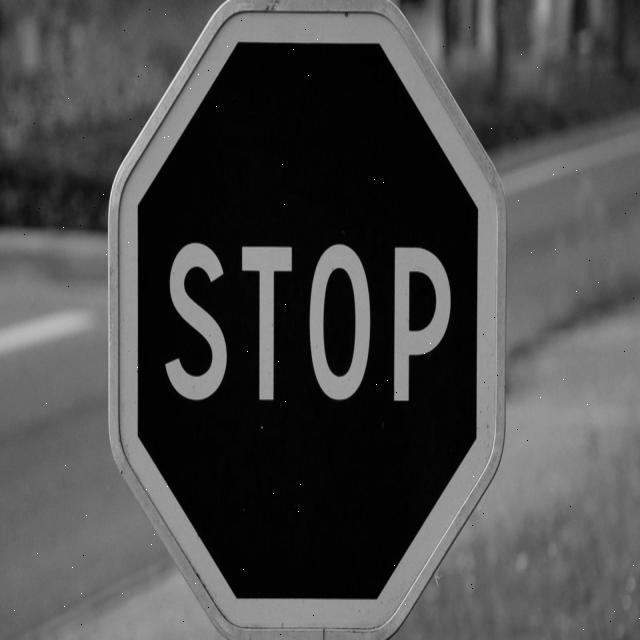Stop-sign: (102, 0, 512, 635)
